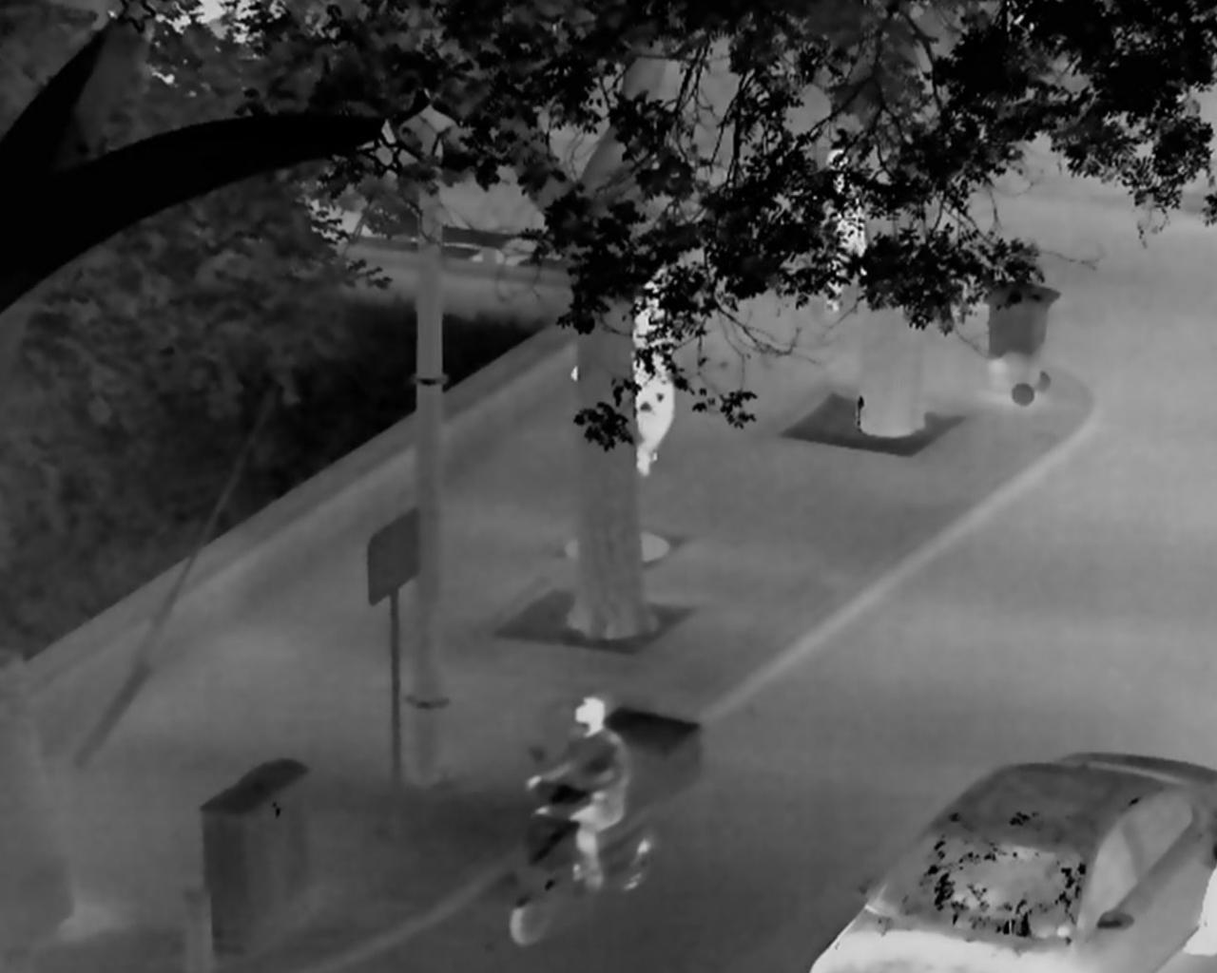person: (522, 694, 630, 893), (632, 277, 674, 478), (821, 149, 870, 315)
